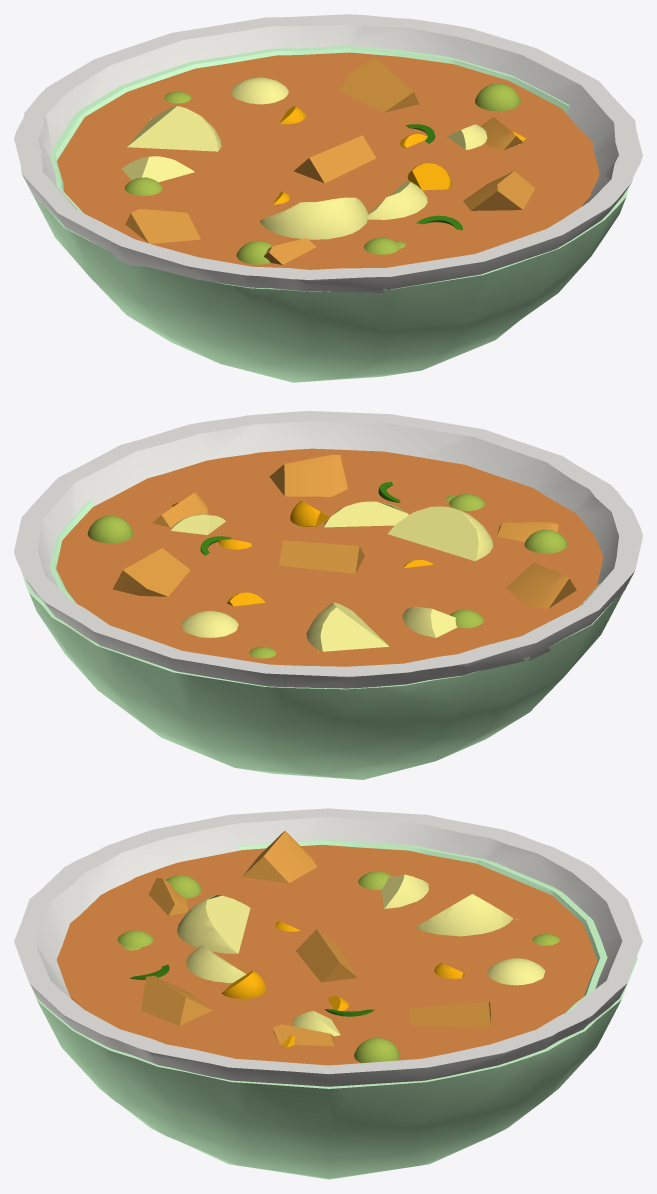
The model's file is vegetable_soup.glb.
3 renders of one model, top to bottom at view 1: azimuth 30°, elevation 25°; view 2: azimuth 150°, elevation 25°; view 3: azimuth 270°, elevation 25°, orthographic.
Parts seen in each view (by area): view 1: Union26, Union24, Union28, Union21, Union25, Union16, Union18, Union17, Union27, Union7, Union12, Union20 (+7 smaller); view 2: Union26, Union28, Union24, Union21, Union27, Union25, Union16, Union18, Union17, Union7, Union12, Union20 (+6 smaller); view 3: Union26, Union24, Union28, Union21, Union25, Union17, Union27, Union16, Union18, Union7, Union12, Union20 (+6 smaller).
Part boxes in pixels (x1,y1,x2,y2): Union26: [57, 52, 599, 269]; Union24: [32, 46, 628, 382]; Union28: [14, 14, 642, 292]; Union21: [260, 197, 368, 239]; Union25: [127, 105, 221, 151]; Union16: [340, 57, 419, 112]; Union18: [294, 135, 376, 183]; Union17: [125, 209, 200, 243]; Union27: [463, 171, 535, 210]; Union7: [367, 181, 427, 219]; Union12: [121, 156, 194, 182]; Union20: [230, 77, 288, 104]; Union26: [56, 448, 603, 666]; Union28: [14, 411, 642, 688]; Union24: [22, 500, 623, 779]; Union21: [388, 506, 493, 560]; Union27: [269, 454, 347, 496]; Union25: [306, 602, 388, 651]; Union16: [113, 548, 190, 596]; Union18: [279, 540, 364, 573]; Union17: [506, 562, 576, 608]; Union7: [324, 501, 408, 527]; Union12: [402, 607, 457, 637]; Union20: [181, 611, 238, 637]; Union26: [56, 844, 597, 1065]; Union24: [32, 839, 637, 1179]; Union28: [14, 808, 642, 1086]; Union21: [177, 895, 250, 953]; Union25: [415, 894, 513, 936]; Union17: [242, 831, 316, 883]; Union27: [141, 976, 212, 1025]; Union16: [410, 1001, 490, 1027]; Union18: [296, 929, 357, 982]; Union7: [186, 945, 246, 983]; Union12: [381, 874, 428, 908]; Union20: [487, 958, 545, 985].
Size of the model in its own units: 175 by 66.64 by 175.
